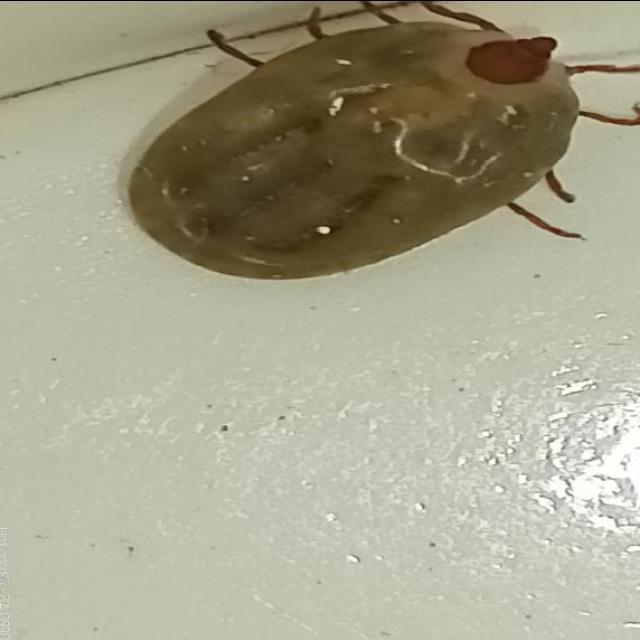Rhipicephalus Sanguineus-F-Fed: (119, 0, 640, 282)
